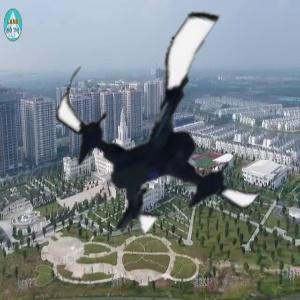drone: (51, 7, 295, 251)
